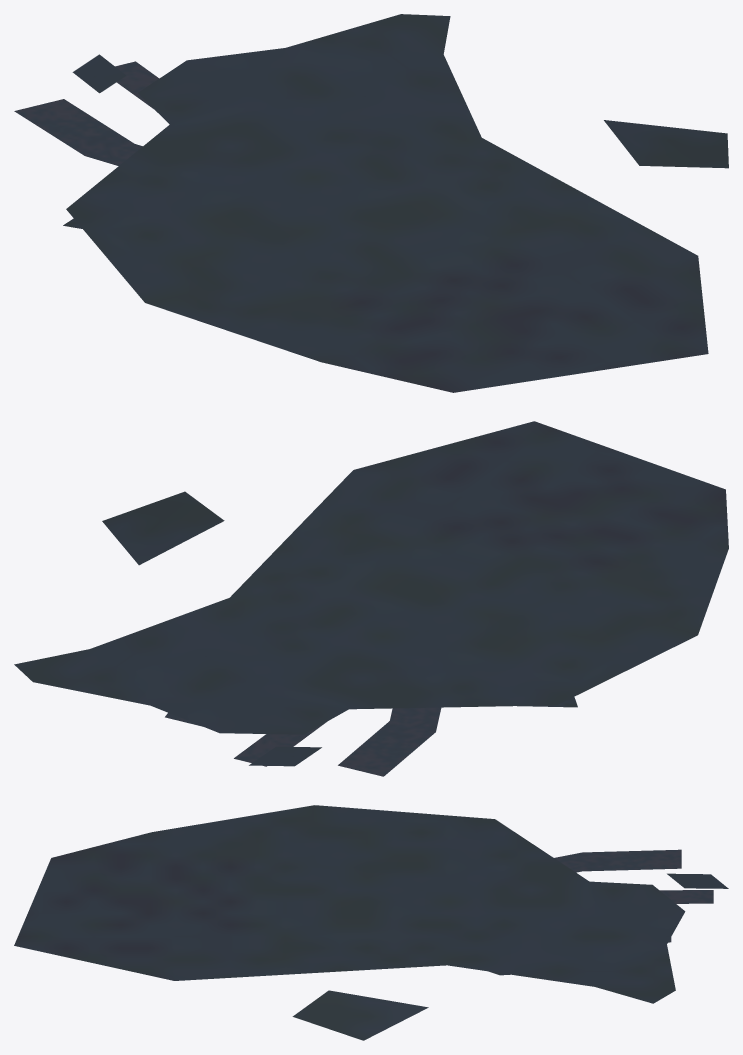
Rendered from BathroomBook.fbx.
3 views of the same model, one above another, from view 1: azimuth 30°, elevation 25°; view 2: azimuth 150°, elevation 25°; view 3: azimuth 270°, elevation 25° (orthographic). The views are drawn at different scales.
Parts seen in each view (by area): view 1: Splash, Hand; view 2: Splash, Hand; view 3: Splash, Hand.
Boxes of the visible parts, x1,y1,x2,y2 form: Splash: [66, 14, 728, 392]; Hand: [14, 61, 158, 228]; Splash: [14, 421, 728, 766]; Hand: [165, 697, 577, 776]; Splash: [14, 805, 728, 1040]; Hand: [488, 849, 713, 975].
Size of the model in its own units: 160 by 3.45 by 207.
